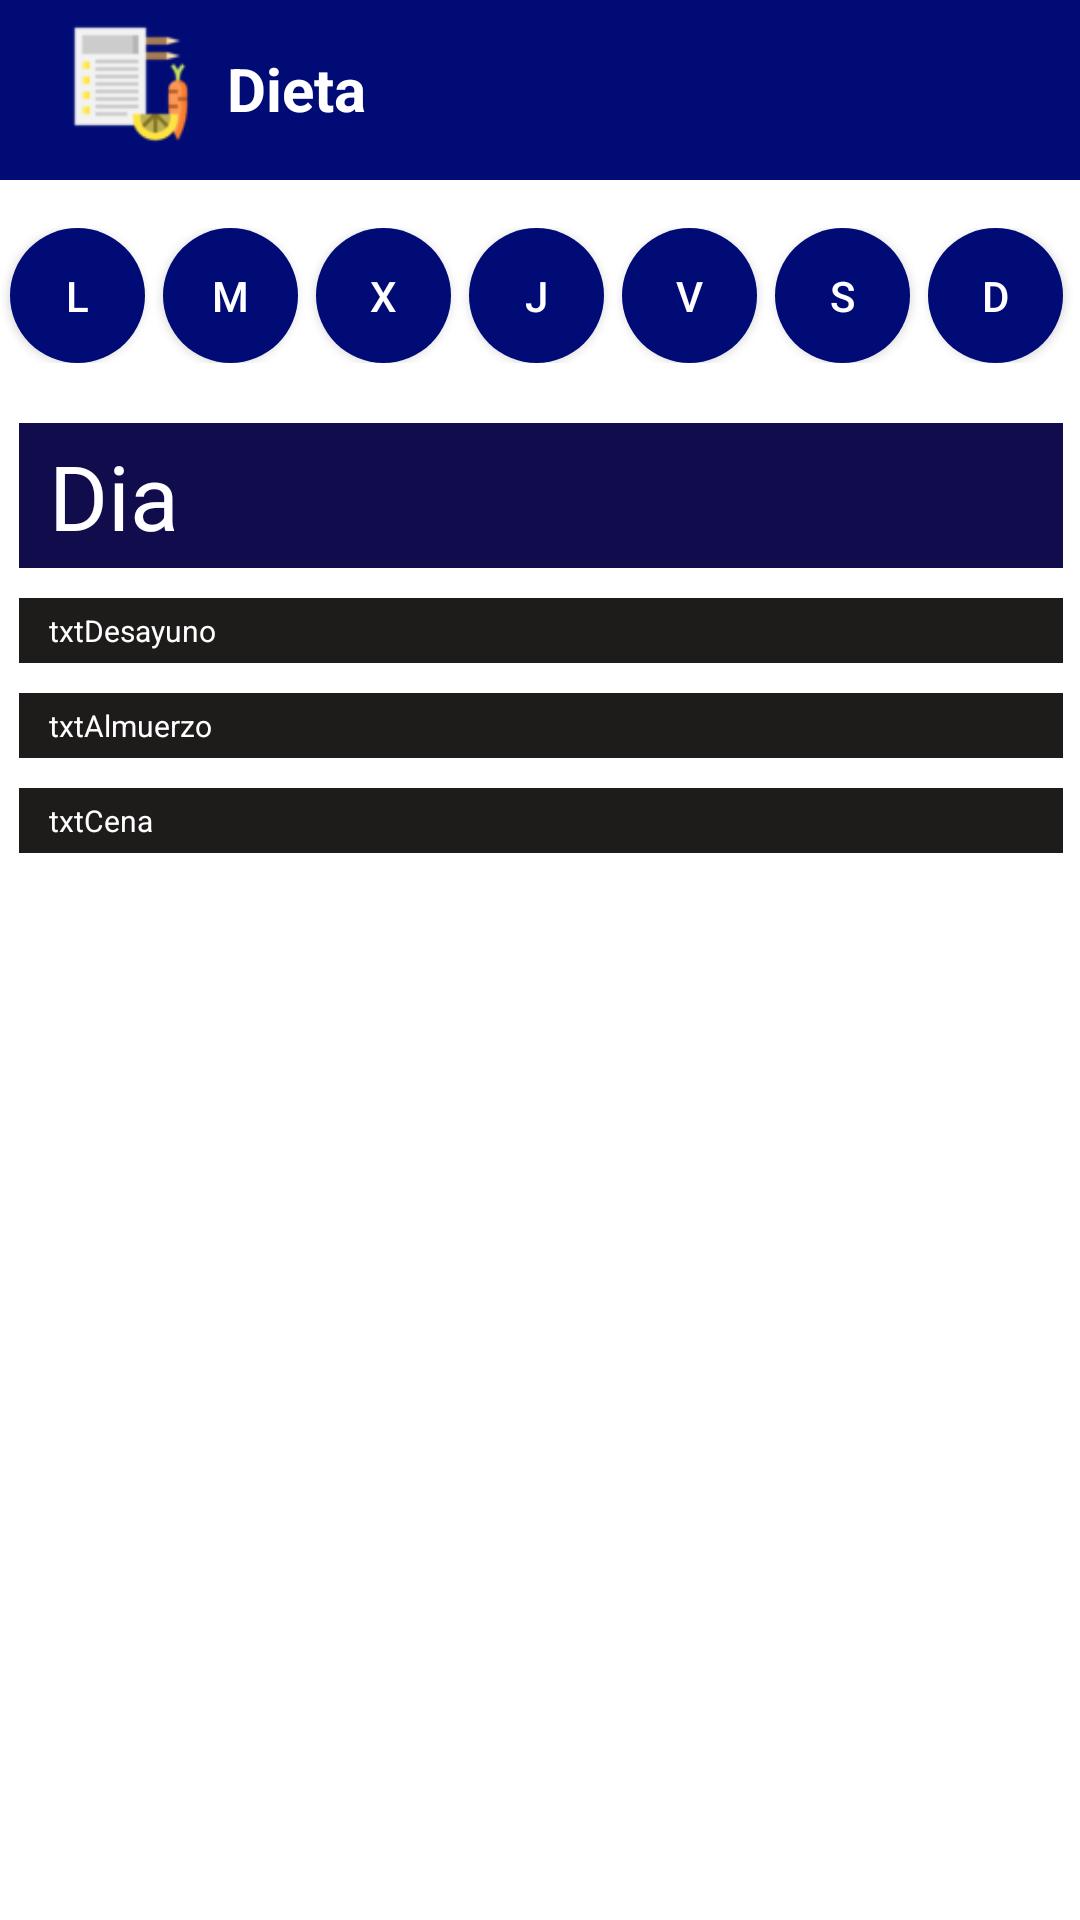

Named icons in this screenshot (1080x1920) and their centers, (x=x, y=y):
Chequeo: (x=131, y=84)
